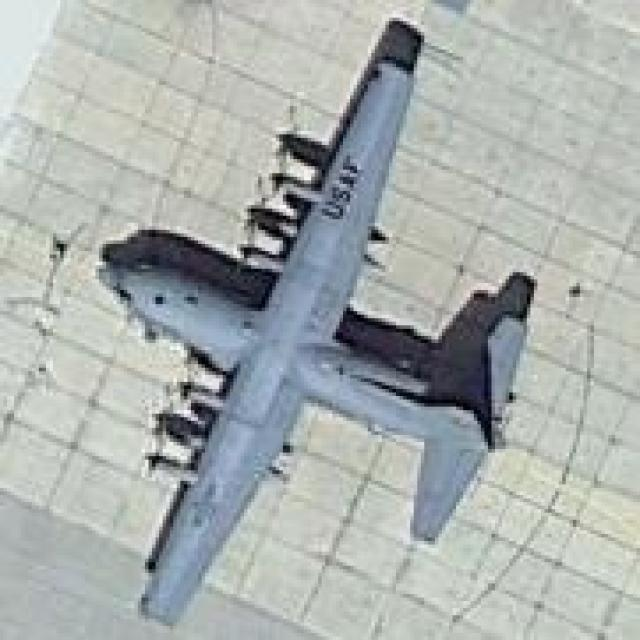C-130_TopDown: (94, 16, 538, 629)
